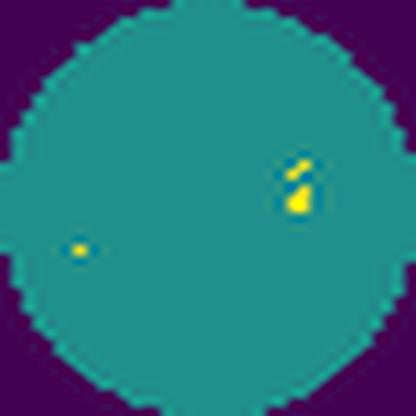Loc: (286, 156, 319, 221)
